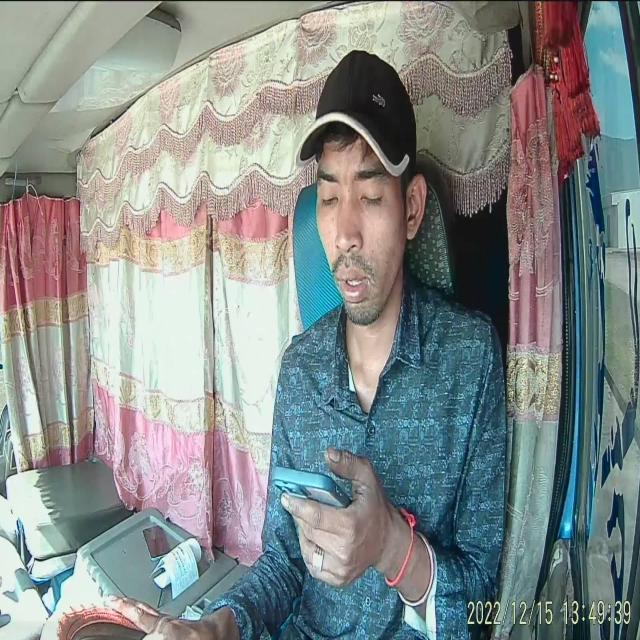phone: (272, 463, 368, 590)
